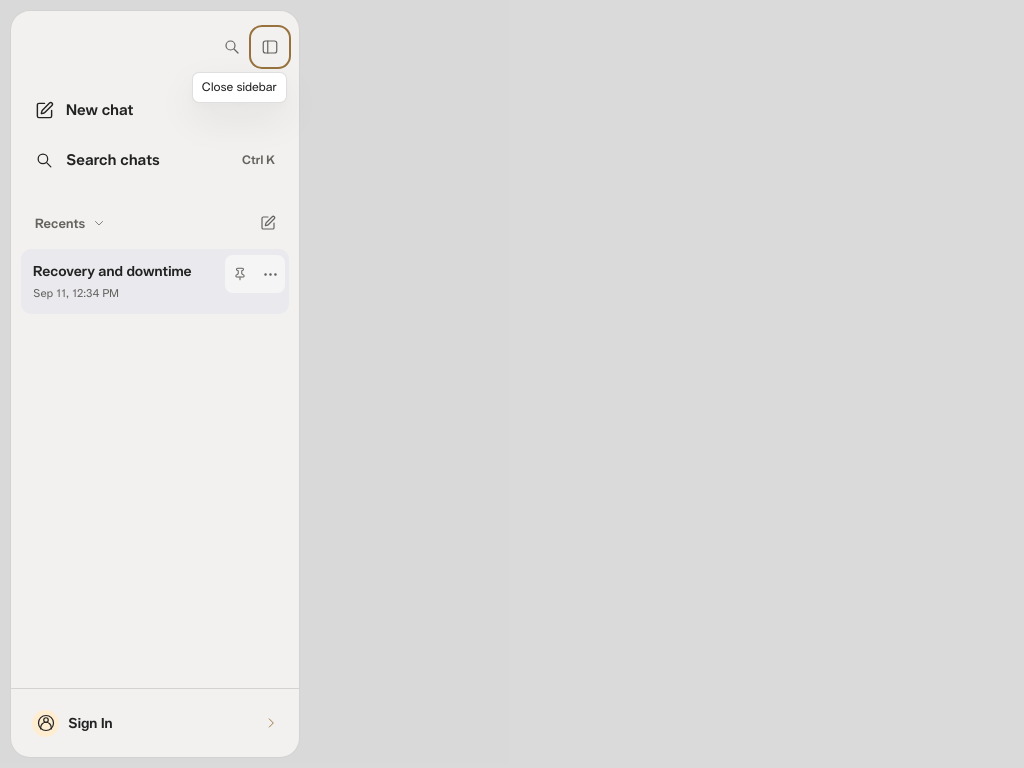
Scenario: Functional sidebar with HTTP doubles › requires deletion confirmation and keeps active-chat failure explicit
Click the button named "Options for Recovery and downtime" at (270, 274), box x1=255 y1=255 x2=285 y2=293
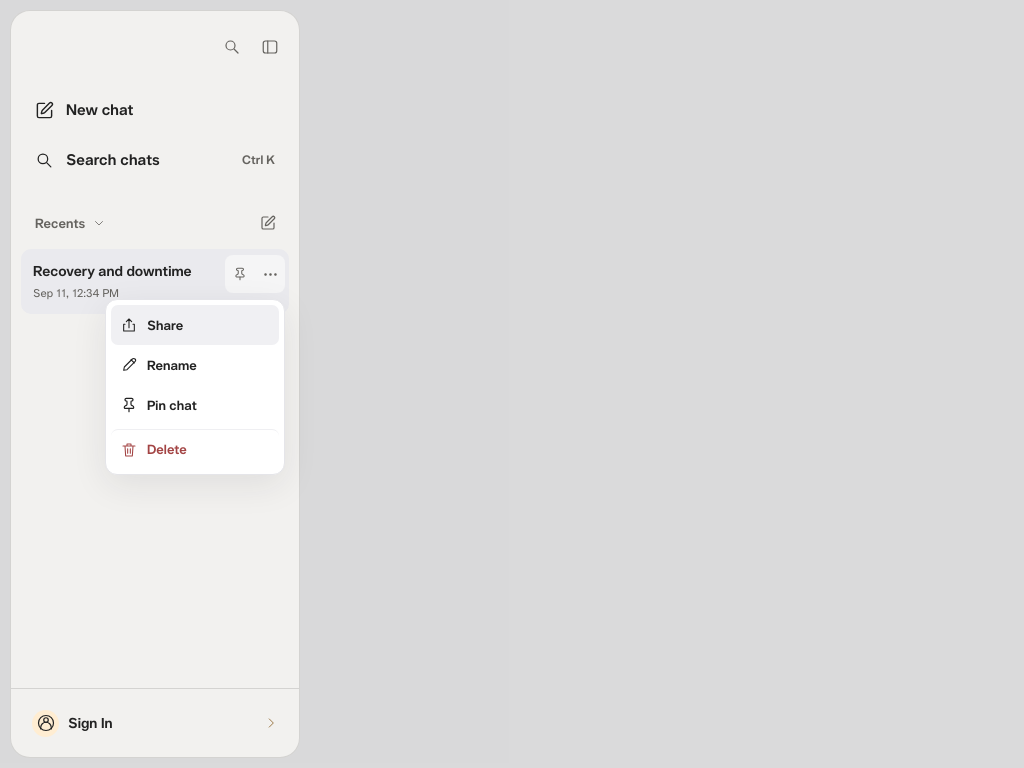
Click the menu item "Delete" at (195, 449), box x1=111 y1=429 x2=279 y2=469
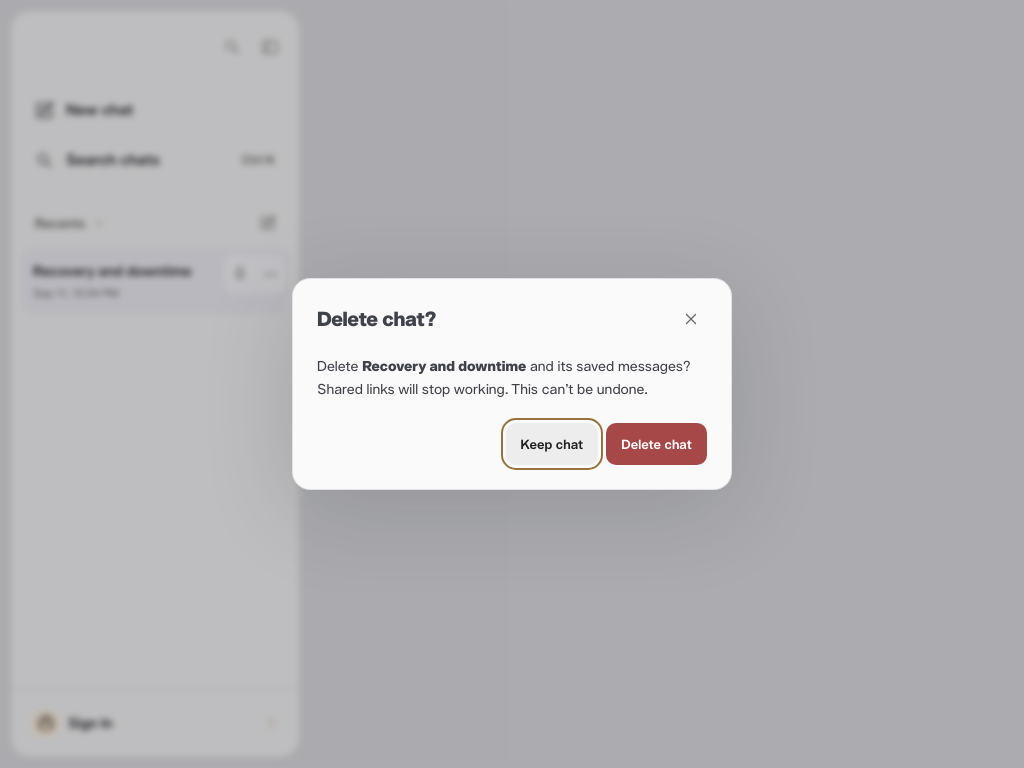
Expected: the button "Keep chat" is shown, x1=506 y1=423 x2=598 y2=465
Click the button "Delete chat" at (657, 444), box x1=606 y1=423 x2=707 y2=465
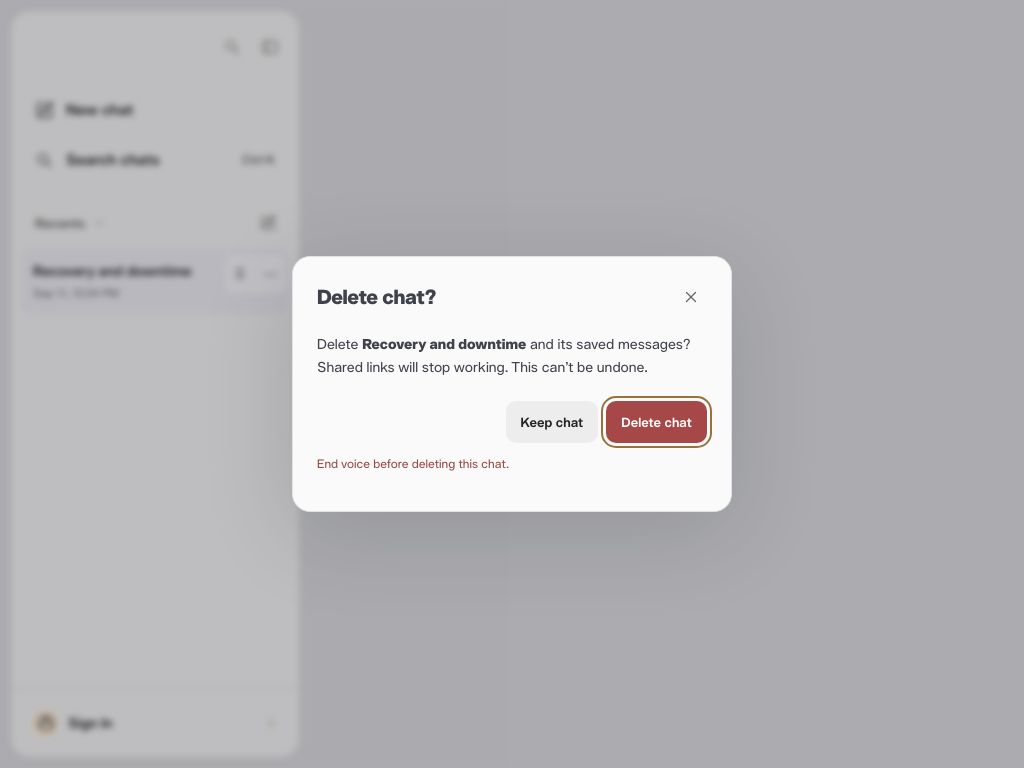
Expected: the text "End voice before deleting this chat." is shown, x1=317 y1=456 x2=509 y2=472
Click the button "Delete chat" at (657, 422), box x1=606 y1=401 x2=707 y2=443
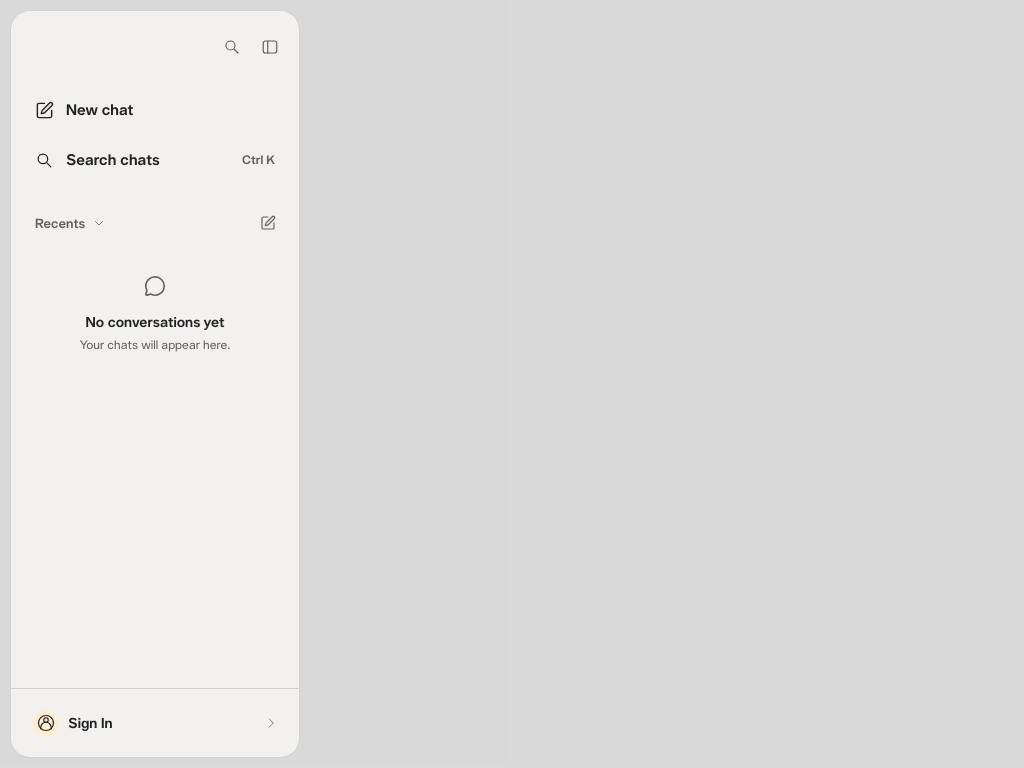
Expected: the text "No conversations yet" is shown, x1=86 y1=313 x2=224 y2=331
